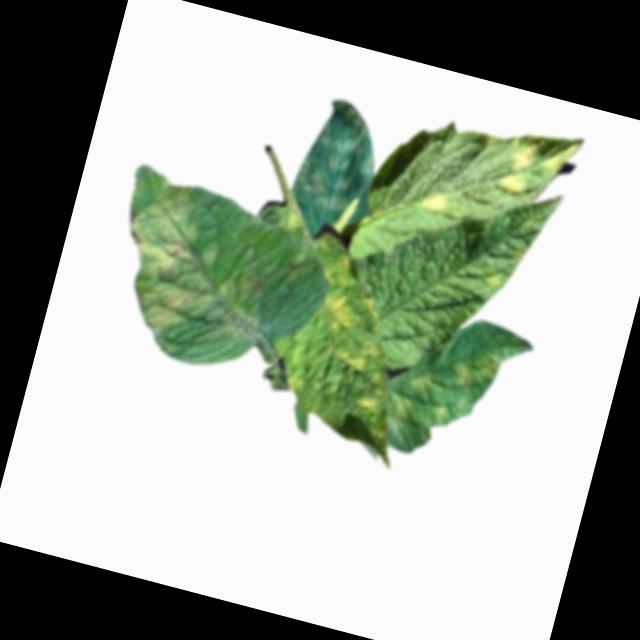Leaf_Mold: (105, 170, 290, 357), (382, 327, 508, 460), (285, 90, 396, 219), (493, 120, 583, 207), (316, 284, 385, 343), (327, 332, 385, 376), (413, 186, 451, 220), (473, 263, 507, 299), (350, 389, 384, 417)
